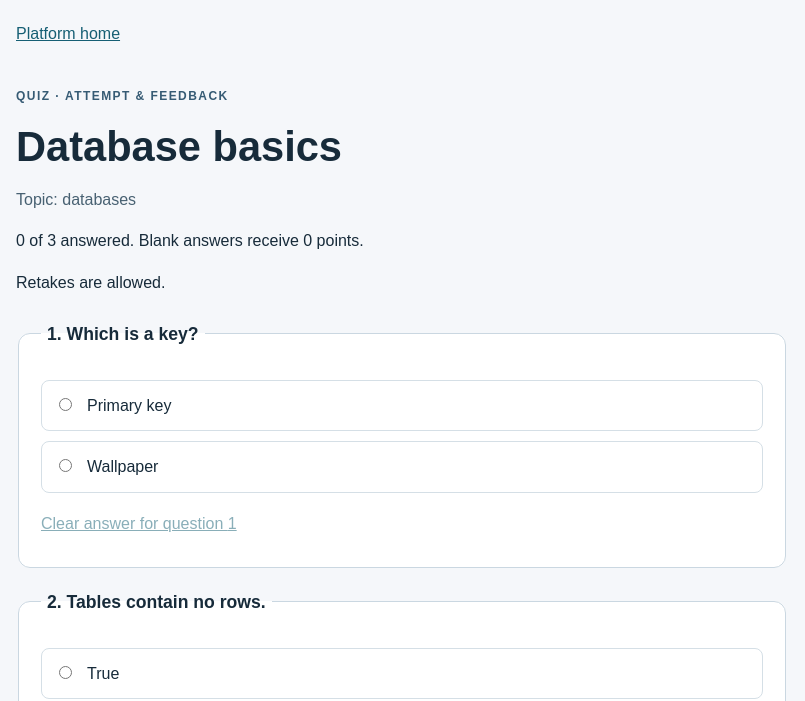
Test: TC-ATT-07: submits 0 and false, displays server feedback immediately without route navigation
This screenshot has width=805, height=701.
Expected: the heading "Database basics" is shown, [16,123,342,170]
What coordinates should you click on to do the following:
click the radio button labelled "Primary key"
I would click on:
 (66, 404)
Its box is [59,398,72,411].
(page scrolled)
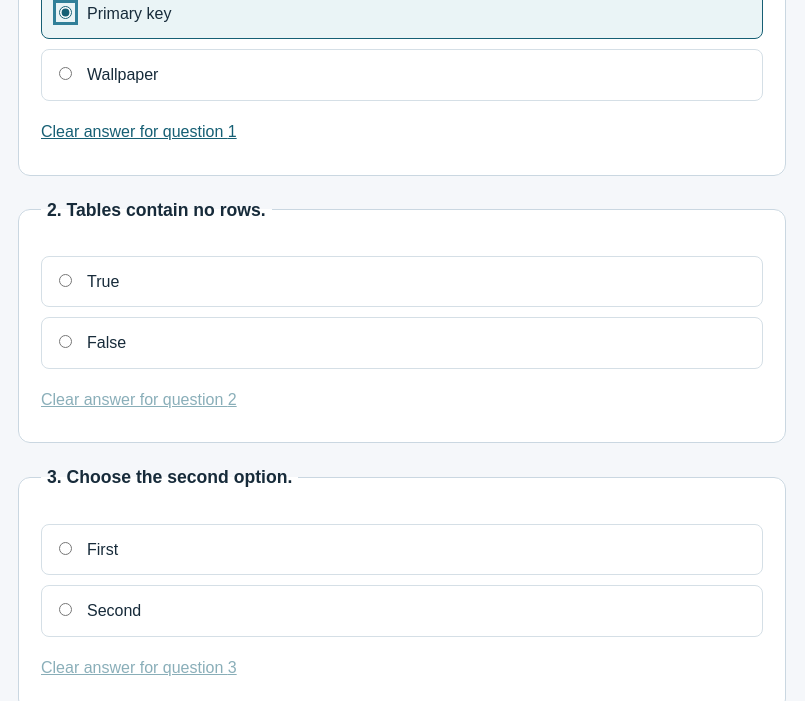
What coordinates should you click on to do the following:
click the radio button labelled "False"
I would click on:
 (66, 342)
Its box is [59,335,72,348].
(page scrolled)
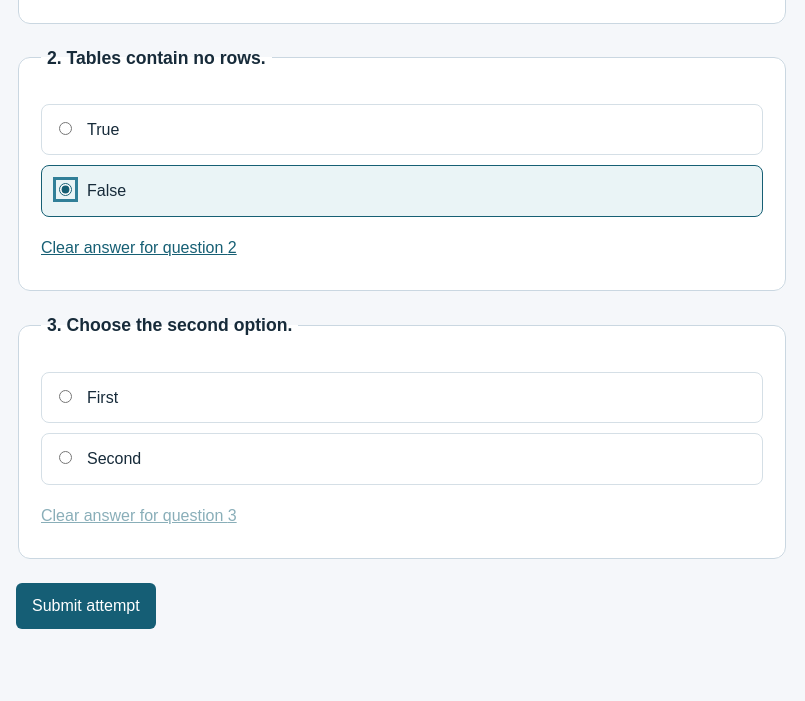
What coordinates should you click on to do the following:
click the button "Submit attempt"
I would click on:
 (86, 606)
Its box is [16,583,156,629].
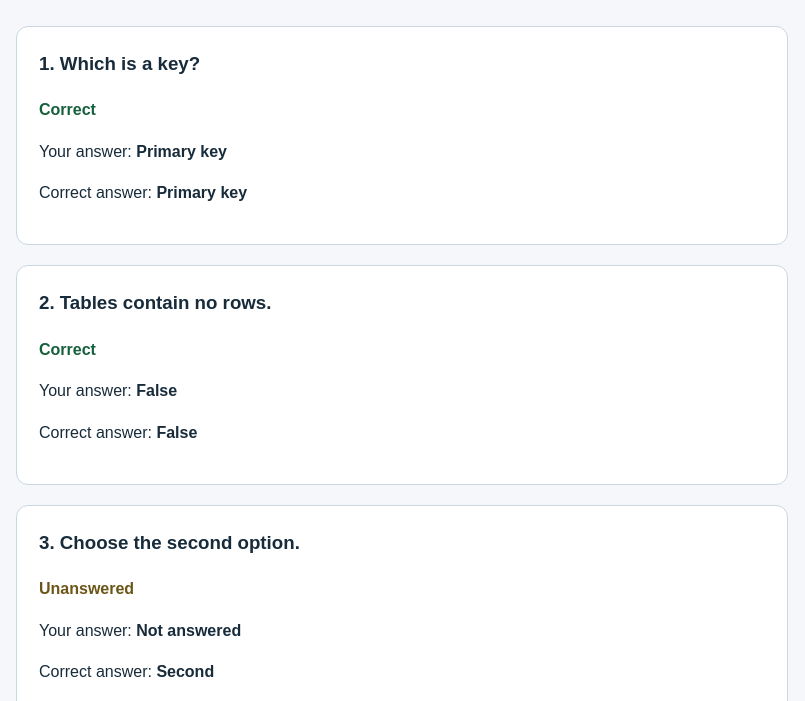
Now the text "Correct" is shown 2 times, box [39,101,96,118]; [39,341,96,358]
Now the text "Unanswered" is shown, box [39,580,134,597]
Now the text "Correct answer: Primary key" is shown 3 times, box [39,184,247,202]; [39,424,197,441]; [39,663,214,680]
